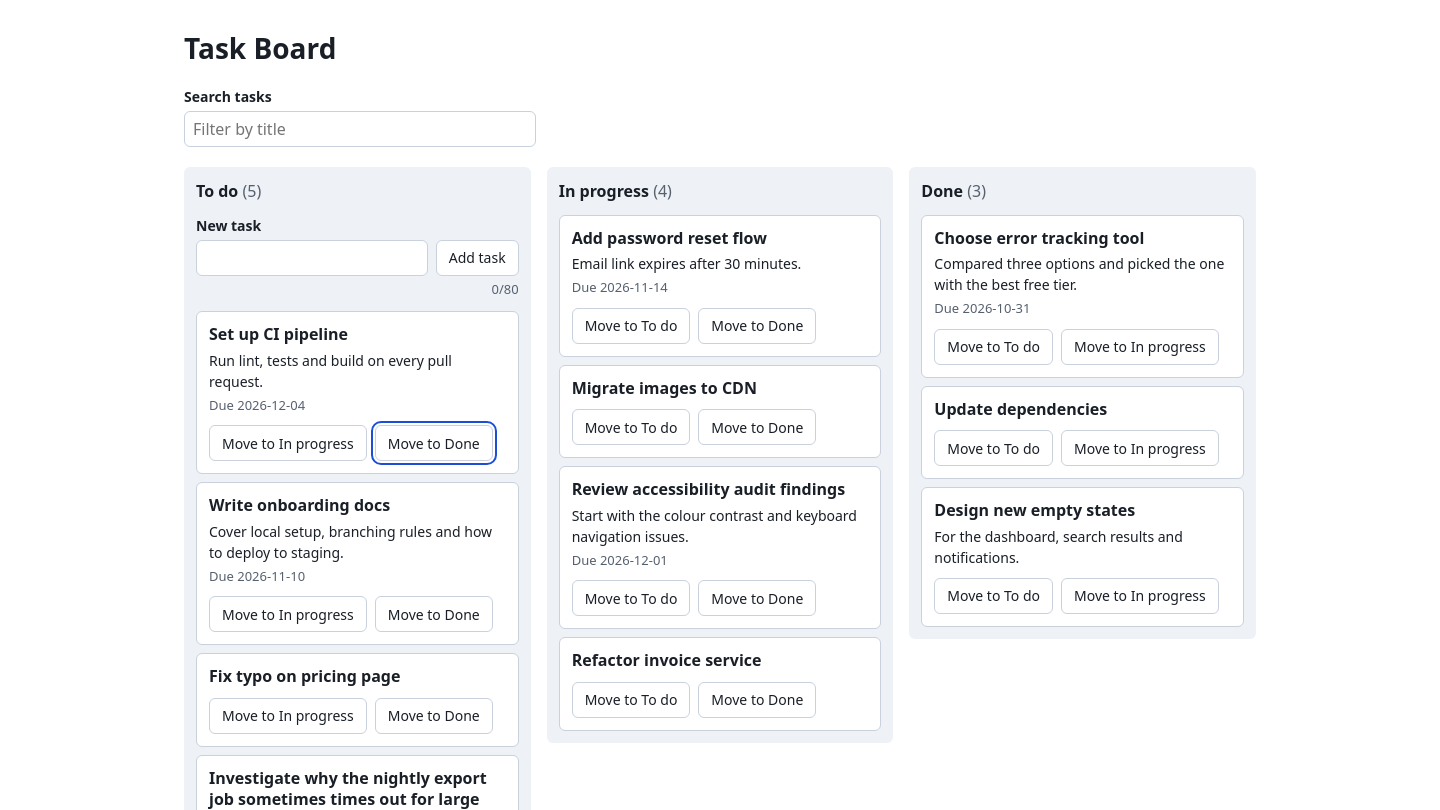
Test: moves immediately, rolls back at failRate=1, and preserves focus and counts
Click the button "Move to Done" below "Set up CI pipeline".
click(434, 443)  # box [375, 425, 493, 461]
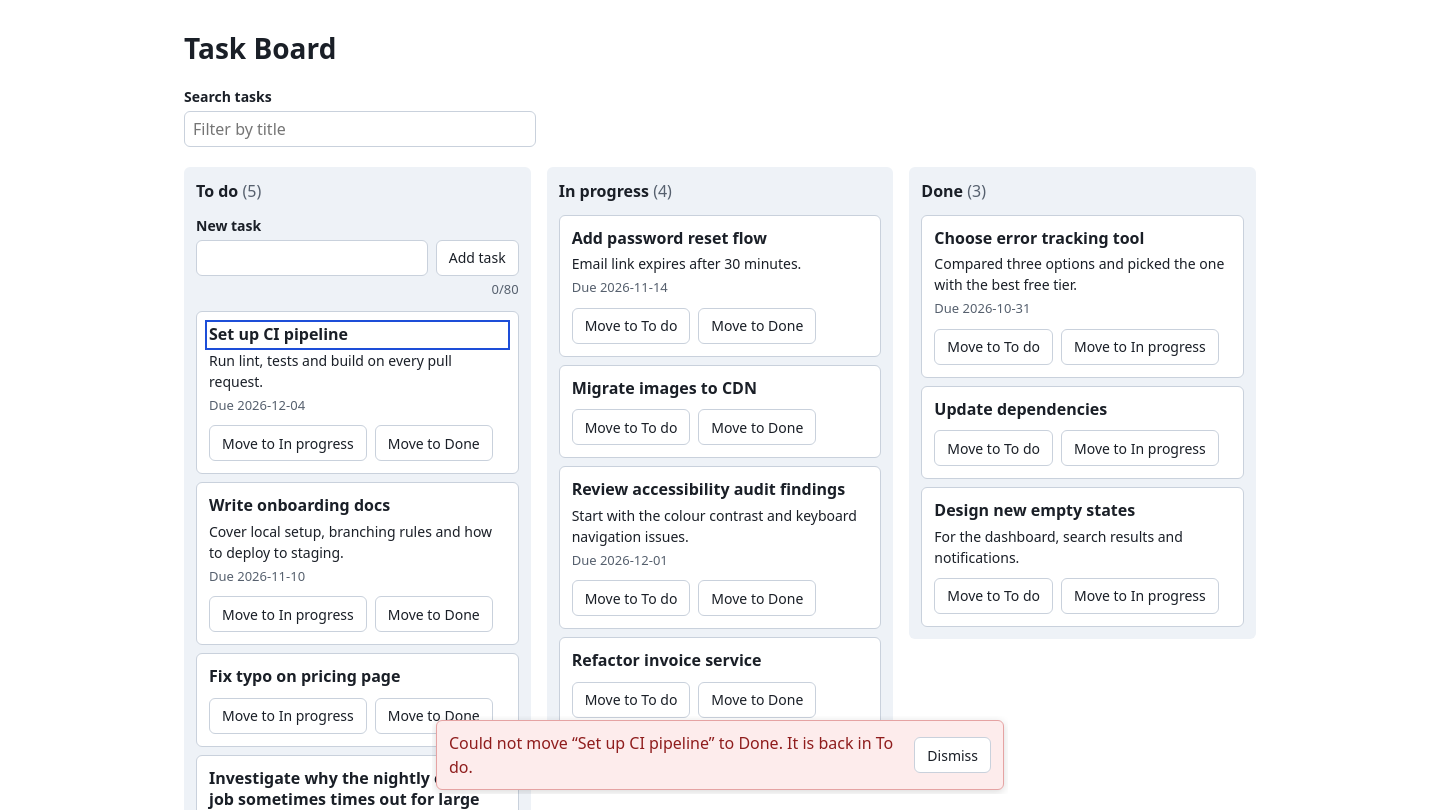
Check: the heading "To do (5)" is shown, box [196, 180, 261, 202]
Check: the heading "In progress (4)" is shown, box [559, 180, 672, 202]
Click the button "Dismiss".
click(953, 755)  # box [914, 737, 991, 773]
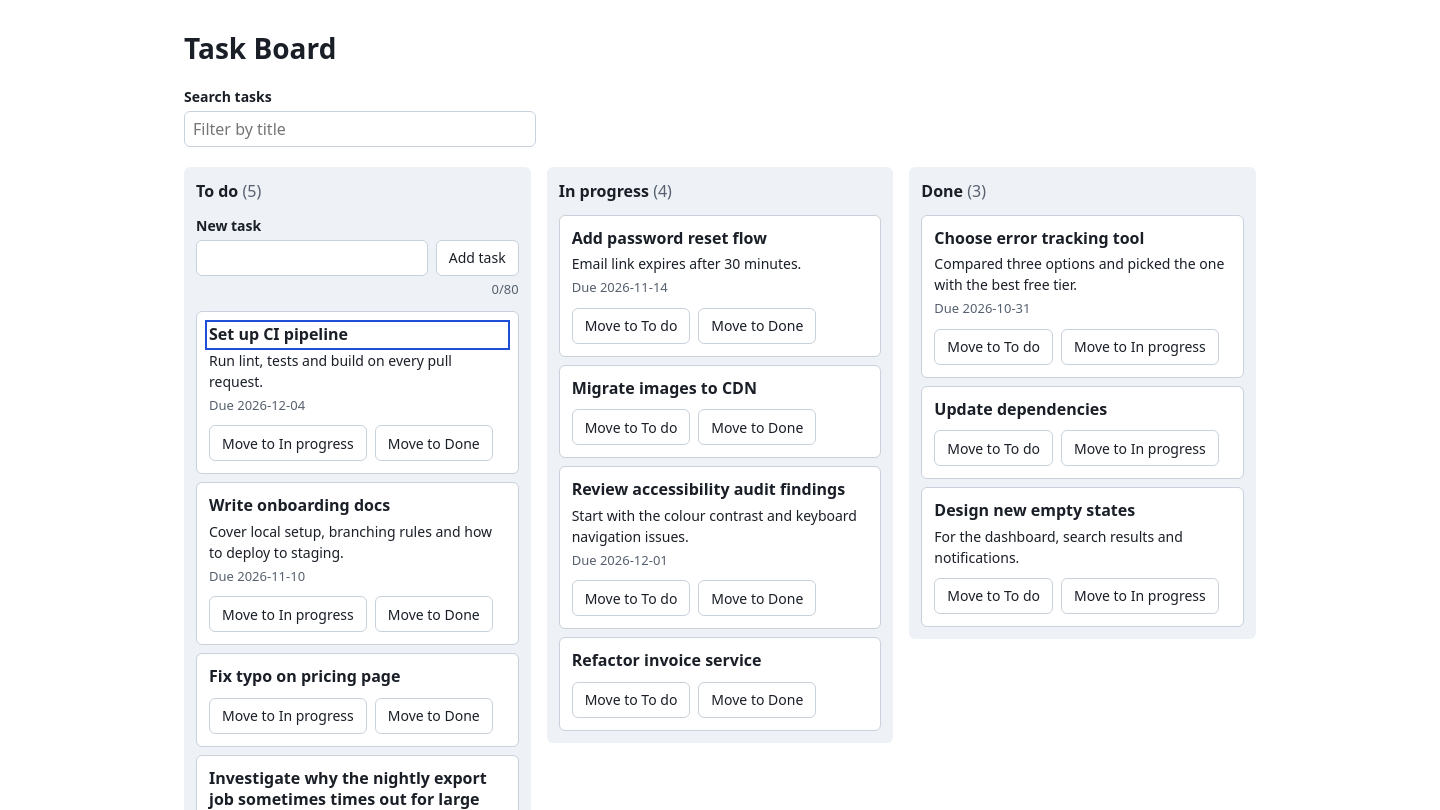
Check: the message is empty, box [432, 786, 1008, 794]
